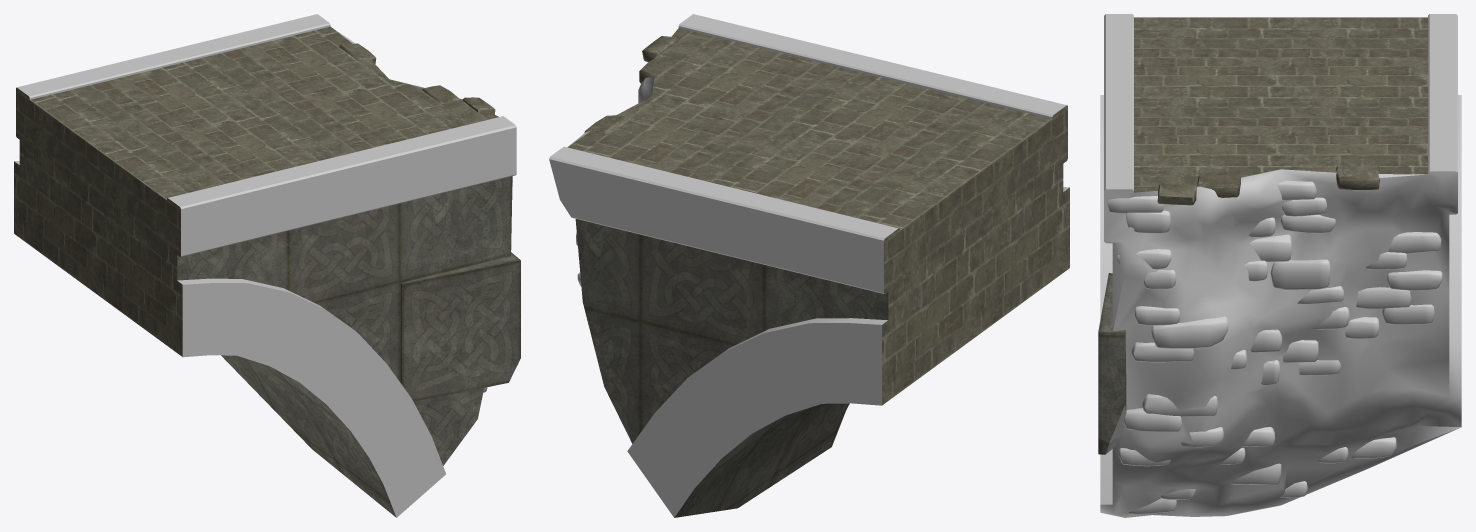
The model's file is bridge_destroyed_03.fbx.
3 views of the same model, side by side, from view 1: azimuth 30°, elevation 25°; view 2: azimuth 150°, elevation 25°; view 3: azimuth 270°, elevation 25° (orthographic). The views are drawn at different scales.
Parts seen in each view (by area): view 1: bridge_destroyed_03; view 2: bridge_destroyed_03; view 3: bridge_destroyed_03.
Boxes of the visible parts, bbox=[...] form: bridge_destroyed_03: bbox=[14, 14, 520, 517]; bridge_destroyed_03: bbox=[549, 14, 1069, 517]; bridge_destroyed_03: bbox=[1098, 14, 1461, 517].
Bounding box in the file's own units: 907 × 918 × 782.
